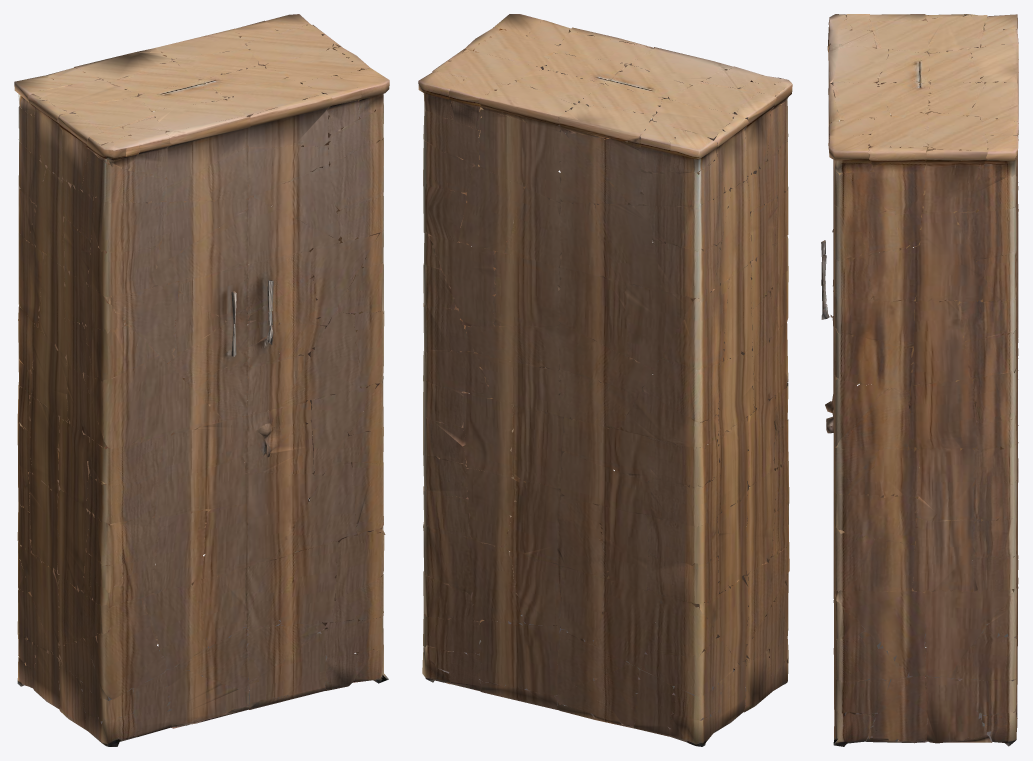
The model's file is WoodenWardrobe.glb.
The picture shows the model from 3 angles, left to right: view 1: azimuth 30°, elevation 25°; view 2: azimuth 150°, elevation 25°; view 3: azimuth 270°, elevation 25°; orthographic projection.
Visible parts, largest first — view 1: WoodenWardrobe; view 2: WoodenWardrobe; view 3: WoodenWardrobe.
Part boxes in pixels (bbox=[...]): WoodenWardrobe: bbox=[14, 14, 389, 746]; WoodenWardrobe: bbox=[418, 14, 792, 746]; WoodenWardrobe: bbox=[821, 14, 1018, 746].
Size of the model in its own units: 1 by 2 by 0.6.
Materials: 1 (1 with a texture image).
